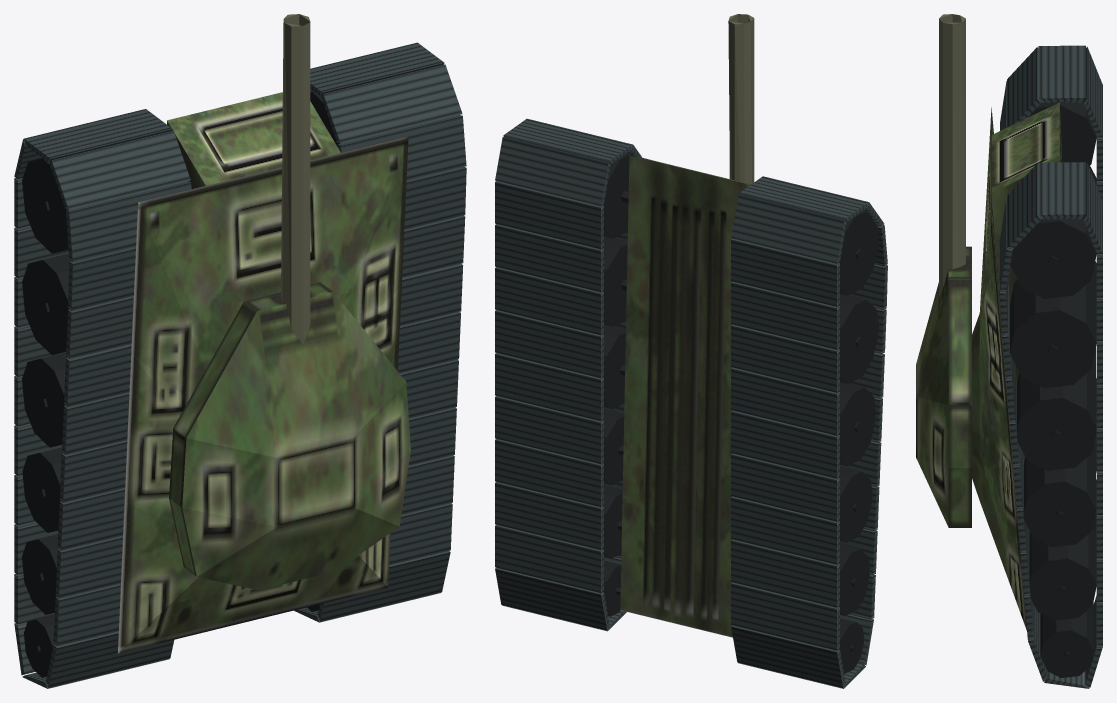
Rendered from tank1K_wtf.obj.
3 renders of one model, left to right at view 1: azimuth 30°, elevation 25°; view 2: azimuth 150°, elevation 25°; view 3: azimuth 270°, elevation 25°, orthographic. The views are drawn at different scales.
Parts seen in each view (by area): view 1: group63, group55, group54, group32, group8, group7, group21, group58, group31, group27, group46, group33 (+26 smaller); view 2: group63, group26, group34, group58, group11, group9, group12, group10, group40, group17, group39, group13 (+24 smaller); view 3: group63, group55, group58, group57, group54, group59, group60, group61, group62, group33, group27, group32 (+25 smaller).
Boxes of the visible parts, x1=… form: group63: x1=118, y1=92, x2=408, y2=653; group55: x1=169, y1=282, x2=410, y2=590; group54: x1=281, y1=14, x2=310, y2=344; group32: x1=321, y1=64, x2=462, y2=143; group8: x1=49, y1=130, x2=190, y2=209; group7: x1=65, y1=181, x2=191, y2=262; group21: x1=46, y1=631, x2=174, y2=688; group58: x1=22, y1=253, x2=70, y2=355; group31: x1=337, y1=115, x2=466, y2=180; group27: x1=24, y1=109, x2=172, y2=162; group46: x1=317, y1=551, x2=450, y2=621; group33: x1=310, y1=42, x2=444, y2=95; group63: x1=620, y1=155, x2=750, y2=637; group26: x1=731, y1=194, x2=846, y2=263; group34: x1=495, y1=136, x2=610, y2=206; group58: x1=603, y1=236, x2=879, y2=383; group11: x1=731, y1=238, x2=839, y2=306; group9: x1=731, y1=582, x2=839, y2=650; group12: x1=731, y1=281, x2=839, y2=349; group10: x1=731, y1=539, x2=839, y2=607; group40: x1=495, y1=396, x2=603, y2=464; group17: x1=731, y1=496, x2=839, y2=564; group39: x1=495, y1=353, x2=603, y2=421; group13: x1=731, y1=324, x2=839, y2=392; group63: x1=972, y1=102, x2=1062, y2=630; group55: x1=916, y1=246, x2=971, y2=527; group58: x1=1010, y1=166, x2=1096, y2=388; group57: x1=1010, y1=101, x2=1096, y2=298; group54: x1=939, y1=14, x2=965, y2=297; group59: x1=1017, y1=261, x2=1096, y2=470; group60: x1=1023, y1=348, x2=1095, y2=547; group61: x1=1029, y1=431, x2=1096, y2=620; group62: x1=1040, y1=522, x2=1093, y2=677; group33: x1=1038, y1=162, x2=1085, y2=219; group27: x1=1038, y1=45, x2=1085, y2=102; group32: x1=1007, y1=163, x2=1040, y2=249.
Size of the model in its own units: 408 by 660 by 191.
